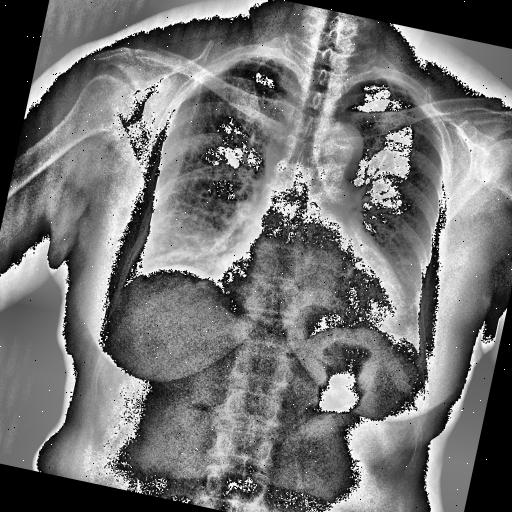0- Aortic enlargement: (290, 113, 374, 195)
3- Cardiomegaly: (202, 190, 424, 368), (186, 214, 430, 356), (204, 214, 426, 360)
